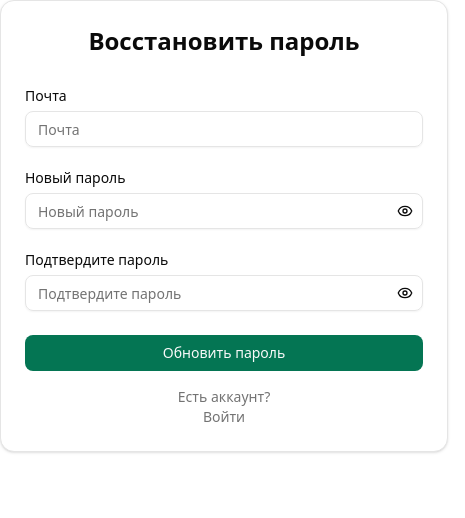
RestoreForm › should show validation errors on submit with empty fields
Click the button "Обновить пароль" at [224, 353], box [25, 335, 423, 371]
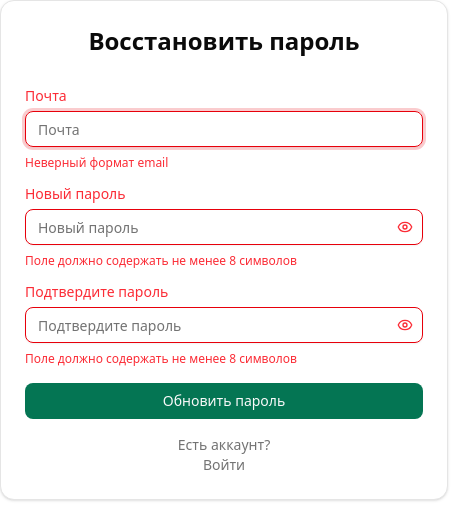
Expected: the text with test id "email_error" reads "Неверный формат email", [25, 154, 168, 171]
Expected: the text with test id "newPassword_error" reads "Поле должно содержать не менее 8 символов", [25, 252, 297, 269]
Expected: the text with test id "confirmPassword_error" reads "Поле должно содержать не менее 8 символов", [25, 350, 297, 367]
